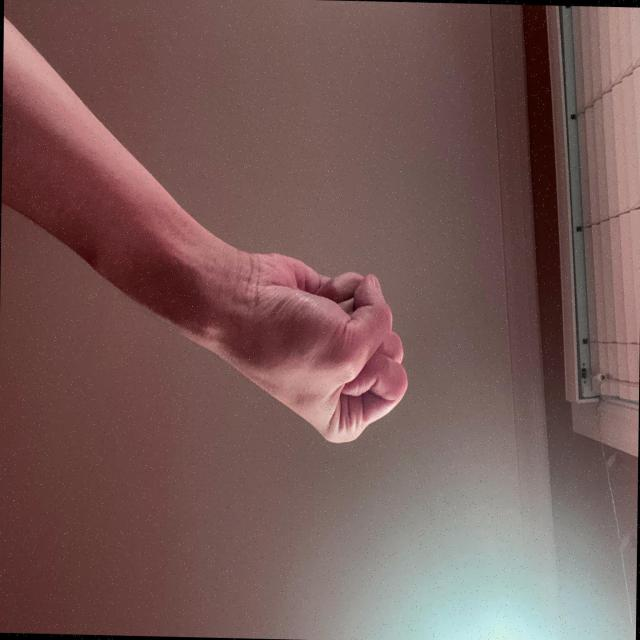S: (341, 302, 500, 550)
